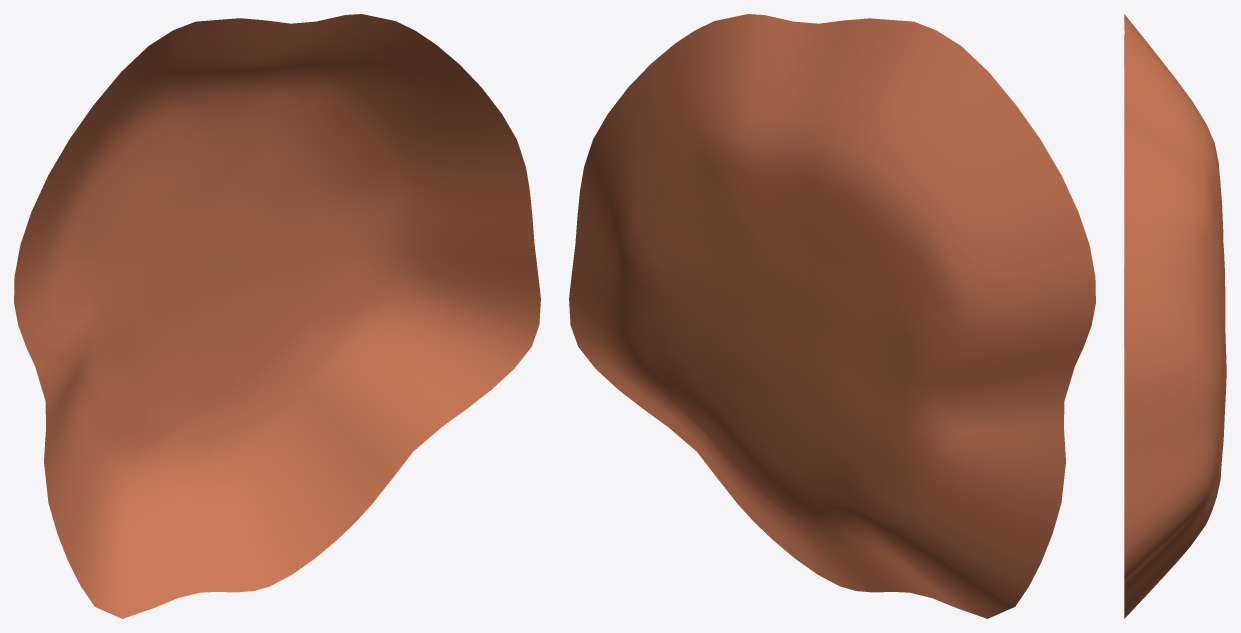
File: Island-Low002.fbx
The picture shows the model from 3 angles, left to right: view 1: azimuth 30°, elevation 25°; view 2: azimuth 150°, elevation 25°; view 3: azimuth 270°, elevation 25°; orthographic projection. The views are drawn at different scales.
Visible parts, largest first — view 1: Island-Low002; view 2: Island-Low002; view 3: Island-Low002.
Boxes of the visible parts, x1,y1,x2,y2 form: Island-Low002: (14,14,540,618); Island-Low002: (569,14,1095,618); Island-Low002: (1124,14,1226,618).
Bounding box in the file's own units: 2281 × 2414 × 403.
